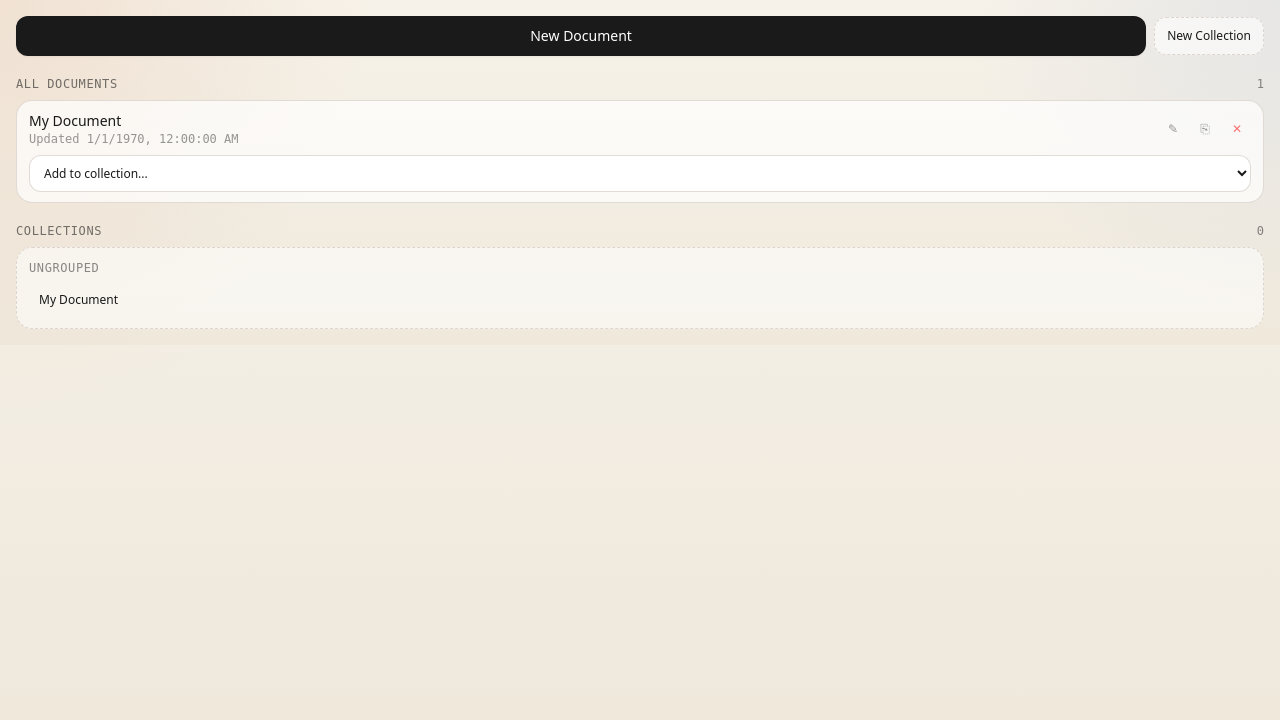
Test: DocumentHubSidebar delete confirmation gate (#110) › does not delete the document or its annotations until the user confirms
Click the button named "Delete document": (1237, 129) x1=1223 y1=115 x2=1251 y2=143
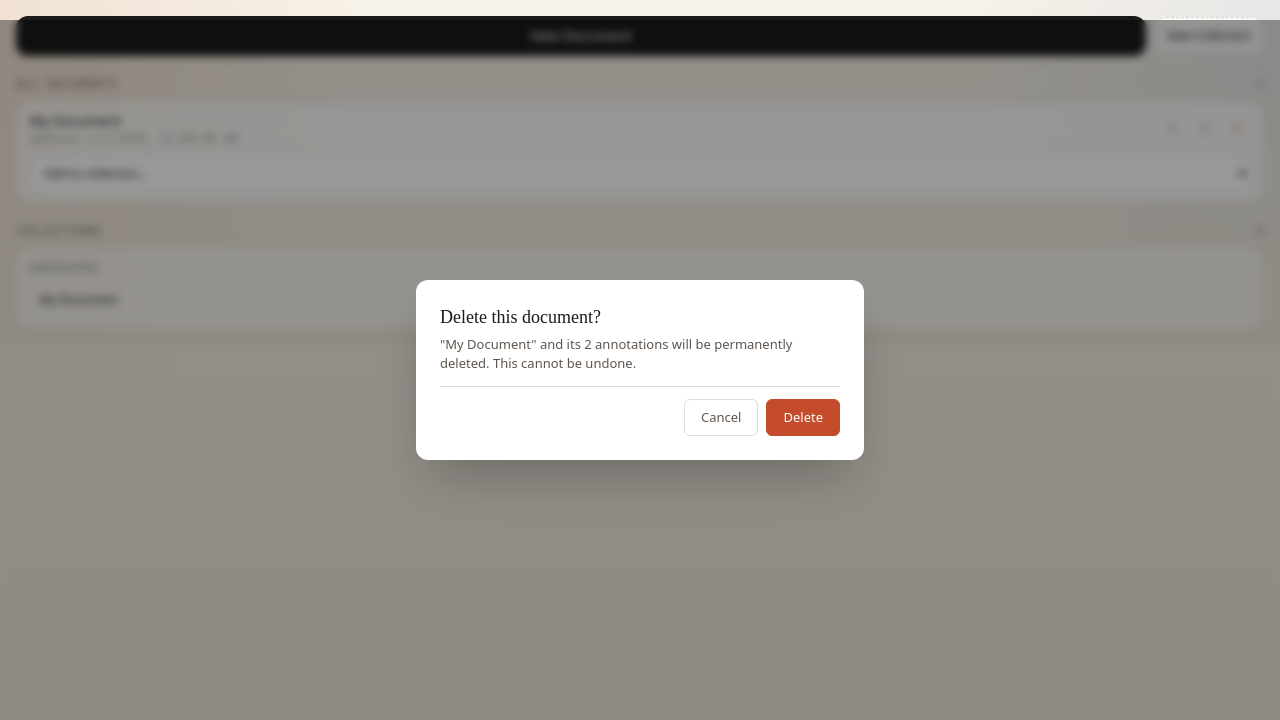
Result: the text with class "confirmation-description" shows "My Document" at x1=440 y1=335 x2=792 y2=372
Result: the text with class "confirmation-description" shows "2 annotations" at x1=440 y1=335 x2=792 y2=372
